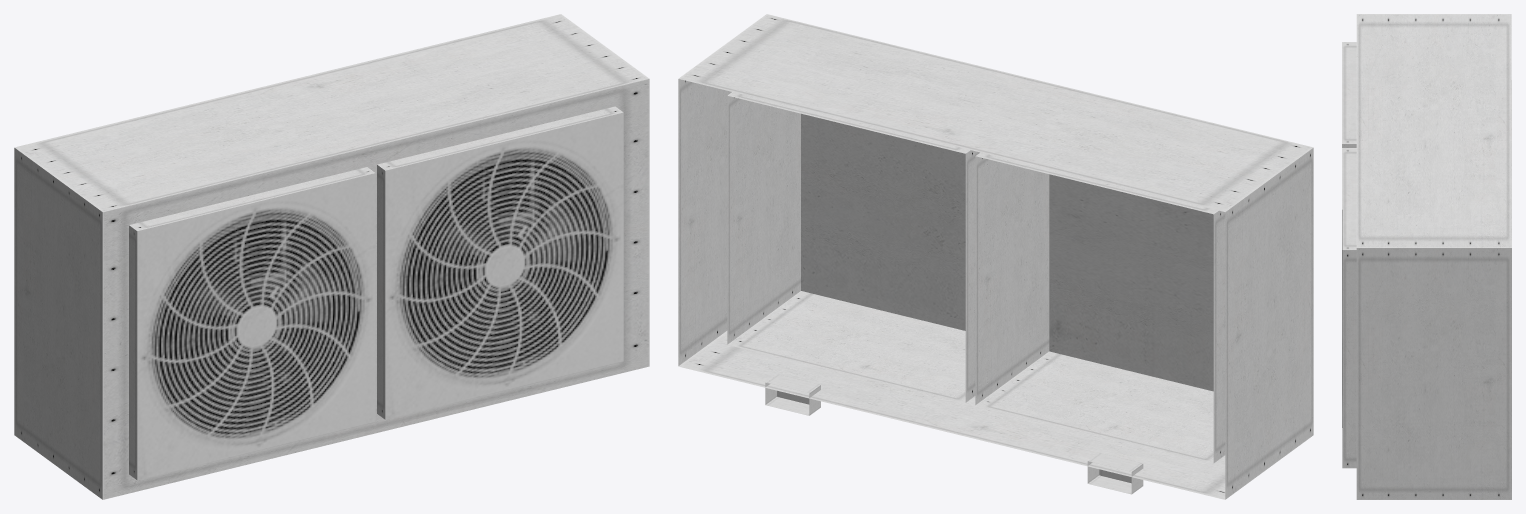
Rendered from d_vent_c.FBX.
3 views of the same model, side by side, from view 1: azimuth 30°, elevation 25°; view 2: azimuth 150°, elevation 25°; view 3: azimuth 270°, elevation 25° (orthographic). The views are drawn at different scales.
Parts seen in each view (by area): view 1: DF_vent03; view 2: DF_vent03; view 3: DF_vent03.
Part boxes in pixels (x1,y1,x2,y2): DF_vent03: (14, 14, 649, 499); DF_vent03: (678, 14, 1313, 499); DF_vent03: (1342, 14, 1511, 499).
Bounding box in the file's own units: 5.54 × 1.7 × 2.95.
